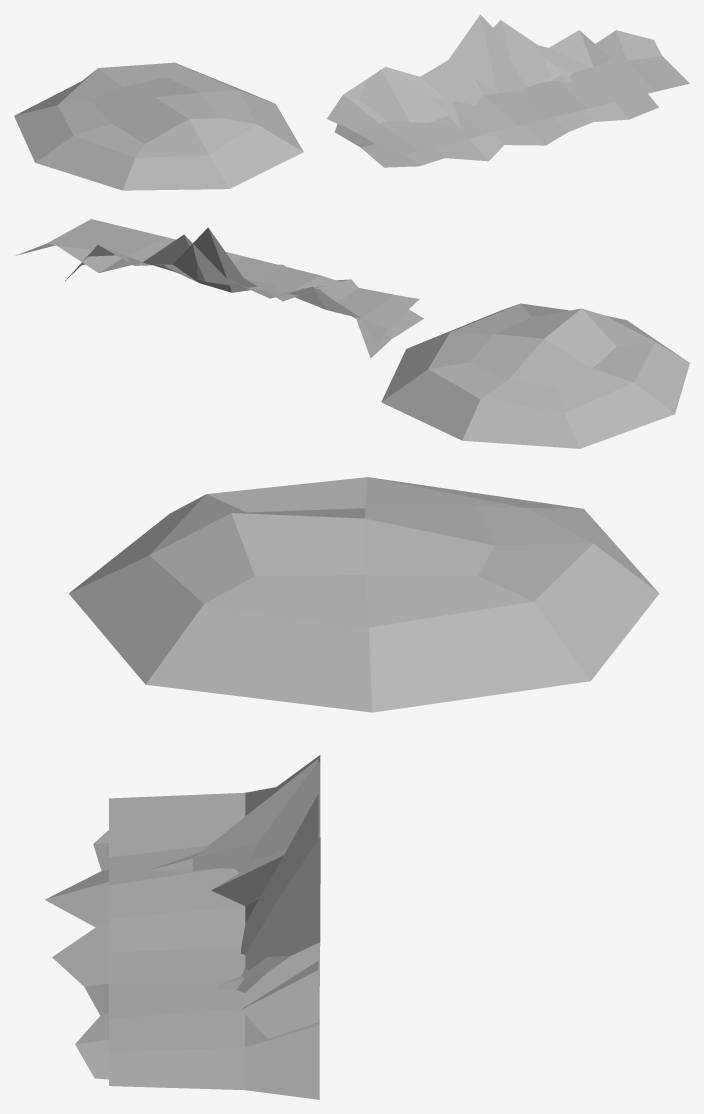
File: bz_dirt_collection.fbx
3 renders of one model, top to bottom at view 1: azimuth 30°, elevation 25°; view 2: azimuth 150°, elevation 25°; view 3: azimuth 270°, elevation 25°, orthographic. The views are drawn at different scales.
Parts seen in each view (by area): view 1: bz_dirt_03_circle, bz_dirt_01, bz_dirt_02; view 2: bz_dirt_03_circle, bz_dirt_01, bz_dirt_02; view 3: bz_dirt_03_circle, bz_dirt_01, bz_dirt_02.
Boxes of the visible parts, x1,y1,x2,y2 form: bz_dirt_03_circle: [14, 62, 303, 190]; bz_dirt_01: [327, 20, 689, 155]; bz_dirt_02: [334, 14, 658, 167]; bz_dirt_03_circle: [381, 303, 689, 448]; bz_dirt_01: [15, 219, 419, 343]; bz_dirt_02: [65, 227, 423, 357]; bz_dirt_03_circle: [69, 477, 659, 712]; bz_dirt_01: [109, 755, 320, 1099]; bz_dirt_02: [45, 759, 318, 1079].
Bounding box in the file's own units: 4.8 × 0.6229 × 2.11.
